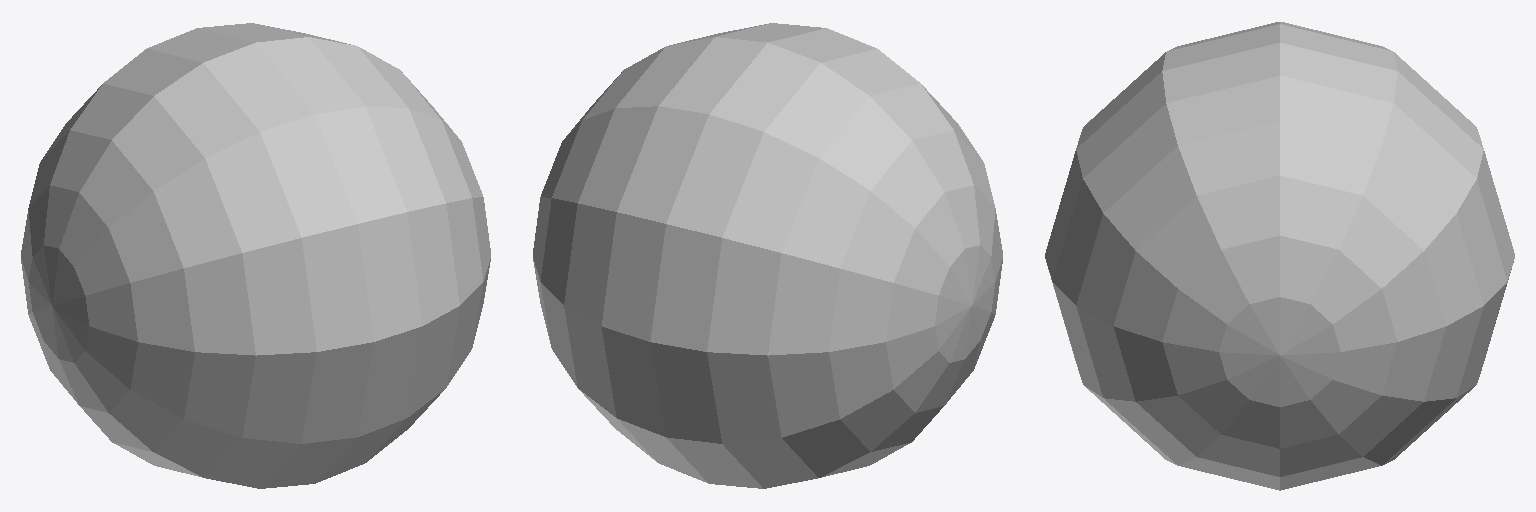
File: body-1.obj
3 views of the same model, side by side, from view 1: azimuth 30°, elevation 25°; view 2: azimuth 150°, elevation 25°; view 3: azimuth 270°, elevation 25° (orthographic).
Visible parts, largest first — view 1: polySurface234 body; view 2: polySurface234 body; view 3: polySurface234 body.
Part boxes in pixels (x1,y1,x2,y2): polySurface234 body: (21,23,490,488); polySurface234 body: (533,23,1002,488); polySurface234 body: (1045,22,1514,490).
Size of the model in its own units: 4.48 by 4.48 by 4.48.